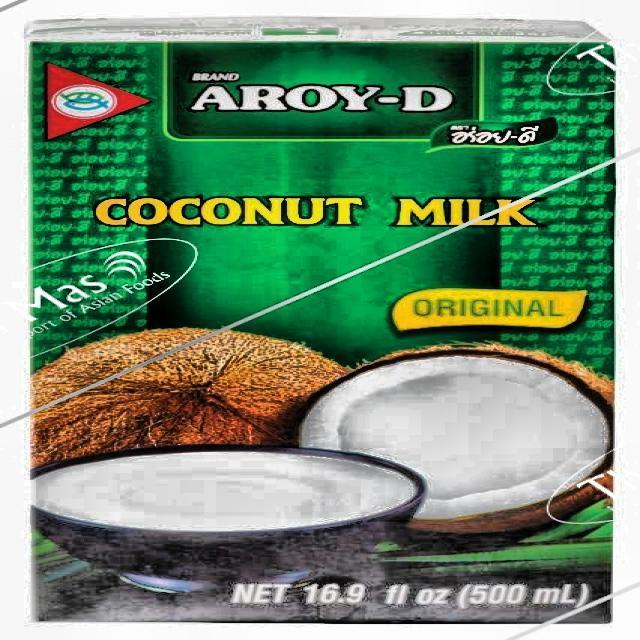cardboard: (25, 15, 618, 623)
